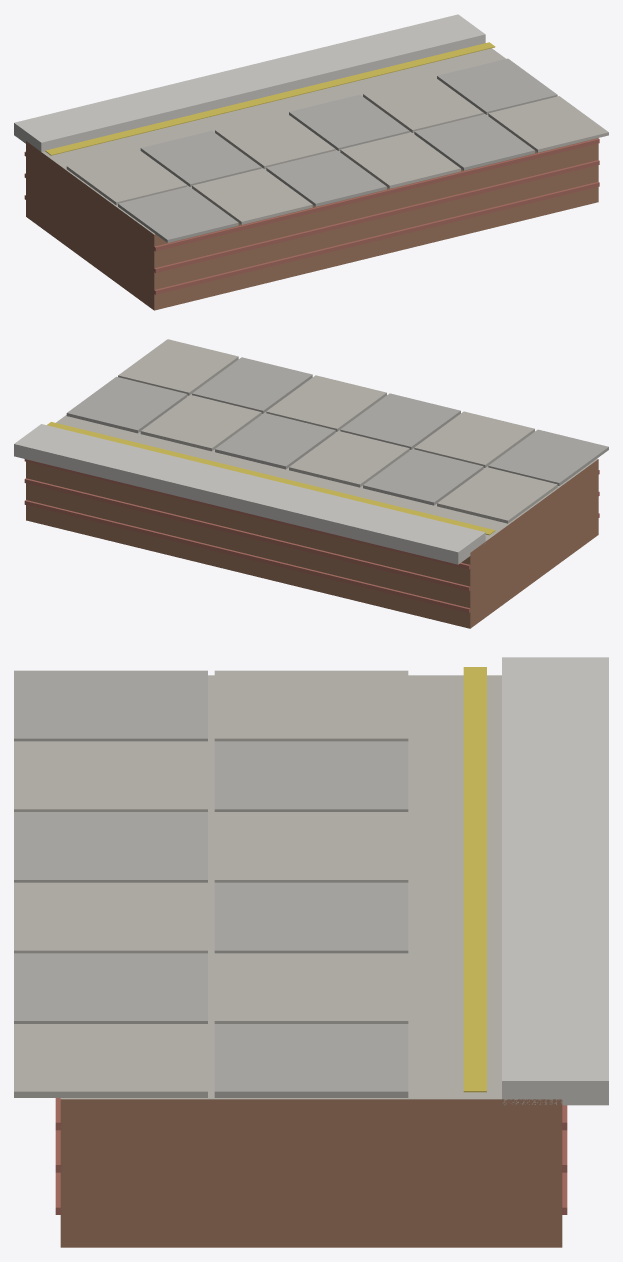
The model's file is rail_platform_straight.glb.
3 views of the same model, one above another, from view 1: azimuth 30°, elevation 25°; view 2: azimuth 150°, elevation 25°; view 3: azimuth 270°, elevation 25° (orthographic). The views are drawn at different scales.
Size of the model in its own units: 3 by 0.55 by 1.78.
